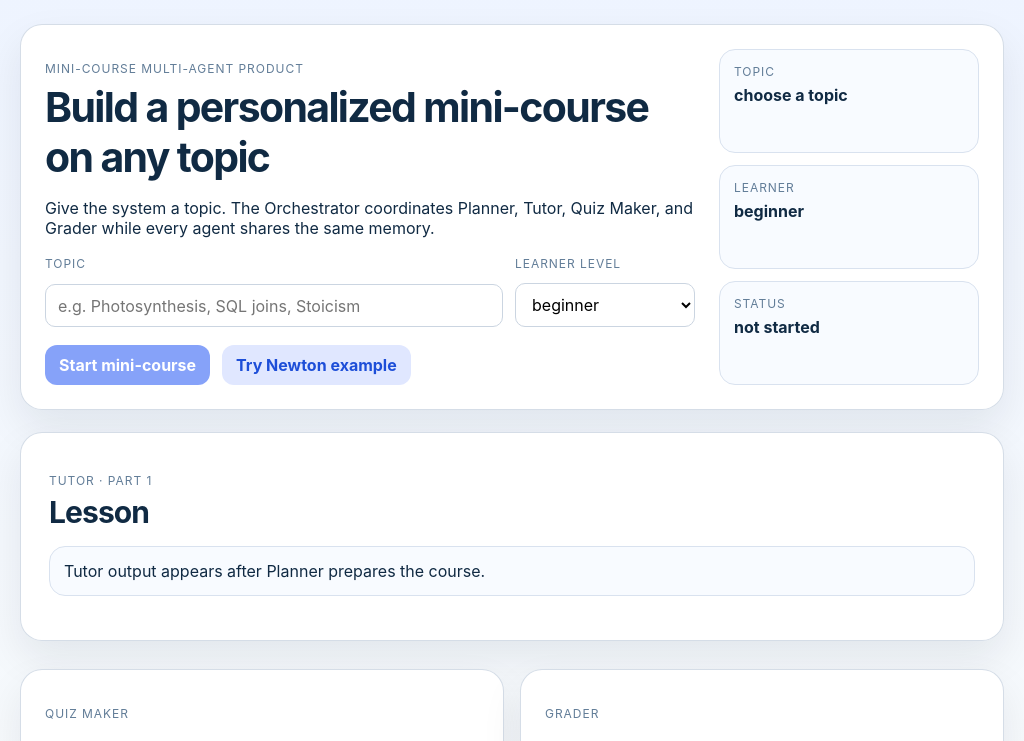
Test: App › runs the Newton example and shows weak spot memory
Click the button "Try Newton example": (316, 365) [222,345,411,385]
(page scrolled)
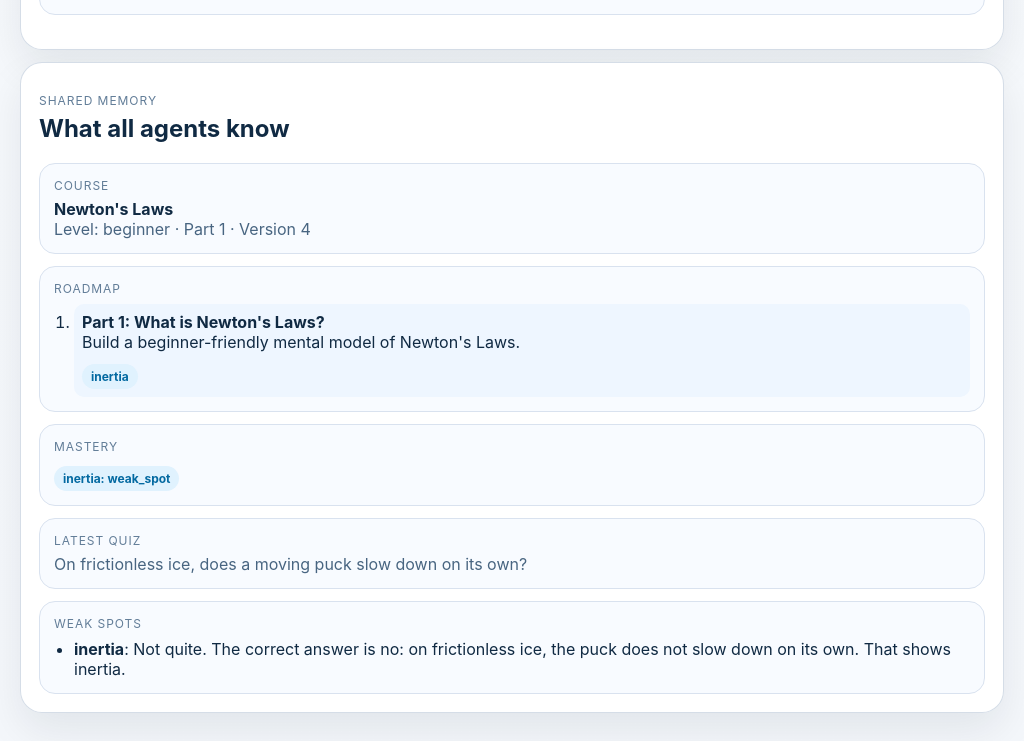
Expected: the text "inertia" below "Roadmap" is shown, [91,369,129,384]
